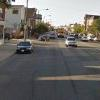Car: (11, 34, 37, 61)
